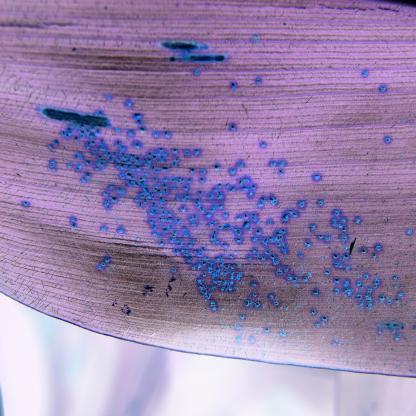corn rust leaf: (1, 1, 415, 380)
